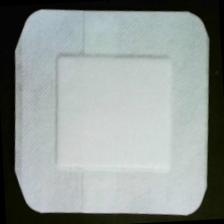Dressing: (3, 1, 221, 224)
